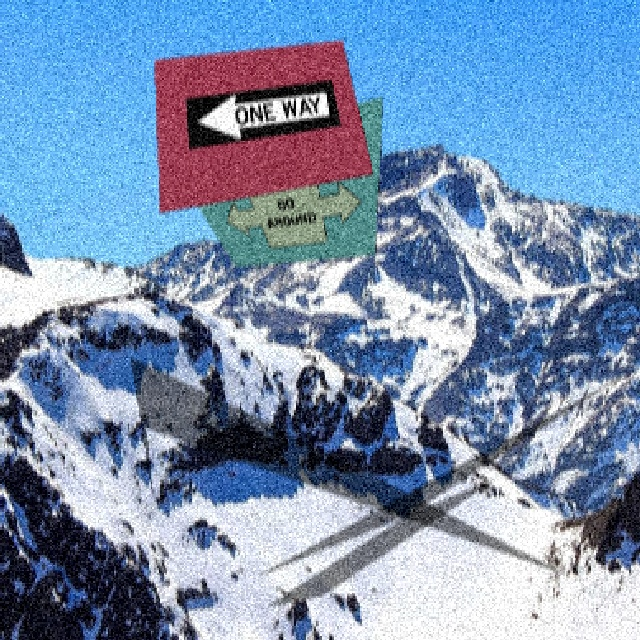GO_AROUND: (198, 150, 376, 253)
ONE_WAY_ left: (180, 80, 339, 150)
